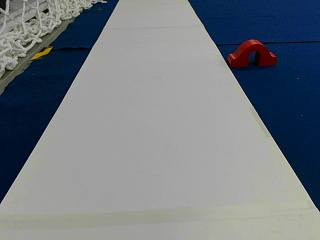bridge: (228, 39, 275, 66)
